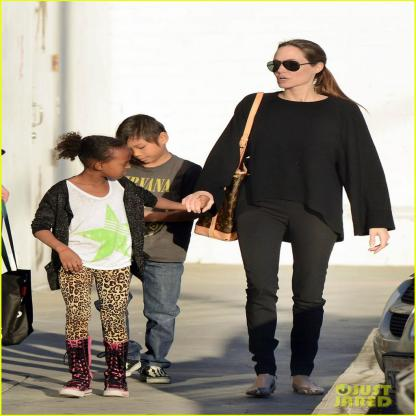face: (273, 51, 307, 90), (124, 137, 158, 166), (109, 150, 138, 181)
